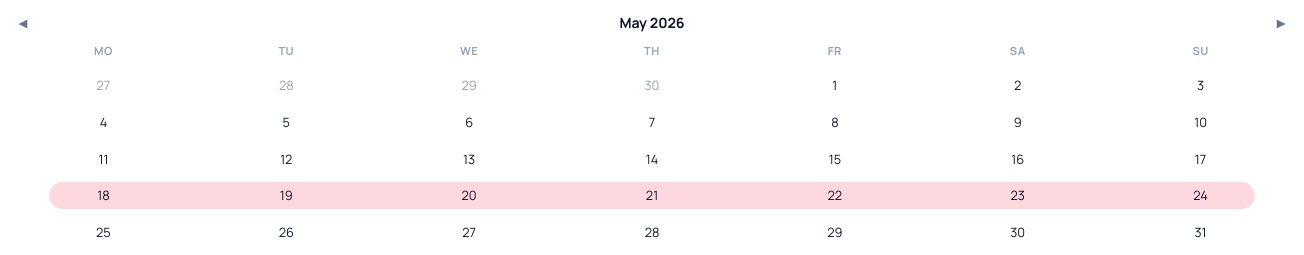
Test case: PlanSpanCalendar — month navigation › navigates to the previous month when ◀ is clicked
Expected: the text "May 2026" is shown, x1=619 y1=13 x2=685 y2=32
Click the button named "previous month".
click(23, 23)  # box x1=12 y1=14 x2=34 y2=32
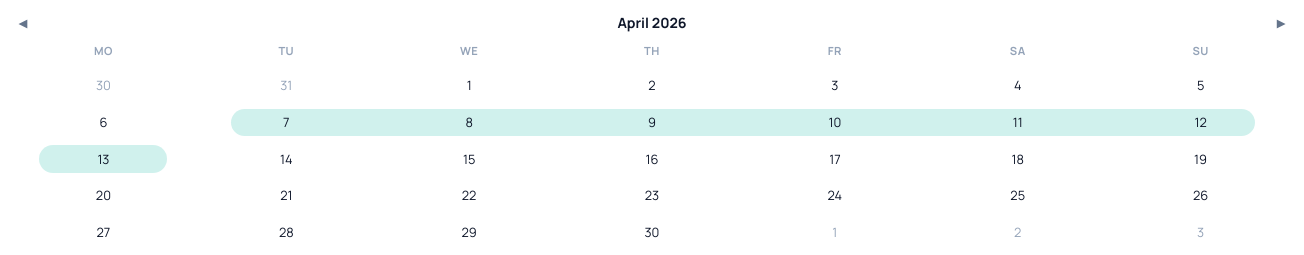
Now the text "April 2026" is shown, box x1=617 y1=13 x2=687 y2=32
